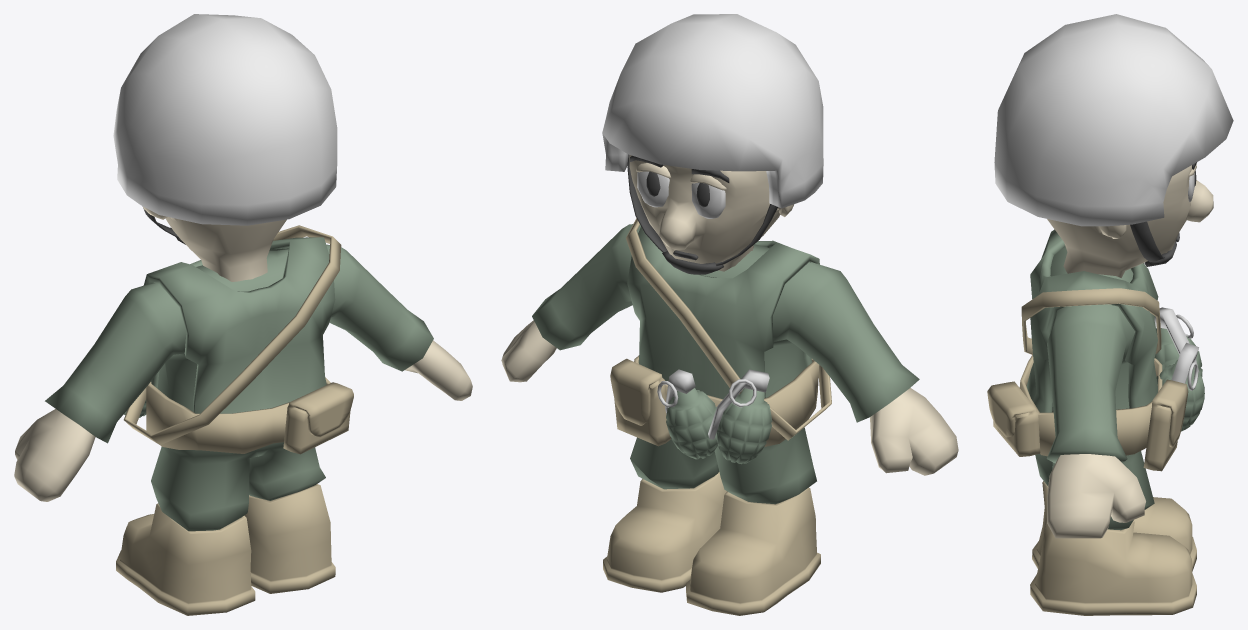
Rendered from soldier_american.fbx.
3 views of the same model, side by side, from view 1: azimuth 30°, elevation 25°; view 2: azimuth 150°, elevation 25°; view 3: azimuth 270°, elevation 25° (orthographic).
Parts seen in each view (by area): view 1: Helmet_1_Camo_Cloth, US_Soldier_Body_Camo_, US_Soldier_Body_Brown, US_Soldier_Vest_Camo_, US_Soldier_Body_Skin, US_Soldier_Belt_Brown, US_Soldier_Strap_Brow, US_Soldier_Head_S, US_Soldier_Pouch_Back; view 2: Helmet_1_Camo_Cloth, US_Soldier_Body_Camo_, US_Soldier_Body_Brown, US_Soldier_Vest_Camo_, US_Soldier_Head_S, US_Soldier_Body_Skin, Grenade_1_Grenade, US_Soldier_Pouch_Fron, US_Soldier_Strap_Brow, US_Soldier_Belt_Brown, Grenade_1_Mettal_2, US_Soldier_Head_Eyes (+2 smaller); view 3: Helmet_1_Camo_Cloth, US_Soldier_Body_Brown, US_Soldier_Body_Camo_, US_Soldier_Vest_Camo_, US_Soldier_Body_Skin, US_Soldier_Head_S, US_Soldier_Pouch_Back, US_Soldier_Pouch_Fron, US_Soldier_Strap_Brow, US_Soldier_Belt_Brown, Grenade_1_Grenade, Grenade_1_Mettal_2 (+1 smaller).
Boxes of the visible parts, bbox=[...] form: Helmet_1_Camo_Cloth: bbox=[113, 14, 337, 225]; US_Soldier_Body_Camo_: bbox=[45, 244, 433, 531]; US_Soldier_Body_Brown: bbox=[116, 484, 335, 615]; US_Soldier_Vest_Camo_: bbox=[143, 237, 335, 413]; US_Soldier_Body_Skin: bbox=[14, 340, 472, 501]; US_Soldier_Belt_Brown: bbox=[146, 377, 330, 453]; US_Soldier_Strap_Brow: bbox=[123, 225, 341, 444]; US_Soldier_Head_S: bbox=[143, 206, 286, 281]; US_Soldier_Pouch_Back: bbox=[283, 382, 353, 454]; Helmet_1_Camo_Cloth: bbox=[602, 14, 823, 208]; US_Soldier_Body_Camo_: bbox=[532, 224, 919, 504]; US_Soldier_Body_Brown: bbox=[603, 472, 820, 615]; US_Soldier_Vest_Camo_: bbox=[627, 226, 819, 398]; US_Soldier_Head_S: bbox=[629, 155, 793, 271]; US_Soldier_Body_Skin: bbox=[501, 320, 958, 475]; Grenade_1_Grenade: bbox=[666, 388, 772, 464]; US_Soldier_Pouch_Fron: bbox=[610, 358, 670, 446]; US_Soldier_Strap_Brow: bbox=[626, 218, 831, 440]; US_Soldier_Belt_Brown: bbox=[634, 355, 819, 446]; Grenade_1_Mettal_2: bbox=[657, 369, 769, 439]; US_Soldier_Head_Eyes: bbox=[637, 171, 725, 218]; Helmet_1_Camo_Cloth: bbox=[994, 14, 1233, 226]; US_Soldier_Body_Brown: bbox=[1030, 481, 1196, 615]; US_Soldier_Body_Camo_: bbox=[1035, 246, 1154, 530]; US_Soldier_Vest_Camo_: bbox=[1026, 229, 1158, 412]; US_Soldier_Body_Skin: bbox=[1047, 454, 1145, 538]; US_Soldier_Head_S: bbox=[1047, 164, 1213, 277]; US_Soldier_Pouch_Back: bbox=[987, 381, 1040, 456]; US_Soldier_Pouch_Fron: bbox=[1143, 379, 1188, 471]; US_Soldier_Strap_Brow: bbox=[1021, 288, 1161, 354]; US_Soldier_Belt_Brown: bbox=[1019, 354, 1162, 456]; Grenade_1_Grenade: bbox=[1154, 328, 1204, 431]; Grenade_1_Mettal_2: bbox=[1154, 307, 1199, 390].
Size of the model in its own units: 0.4918 by 0.5865 by 0.236.
